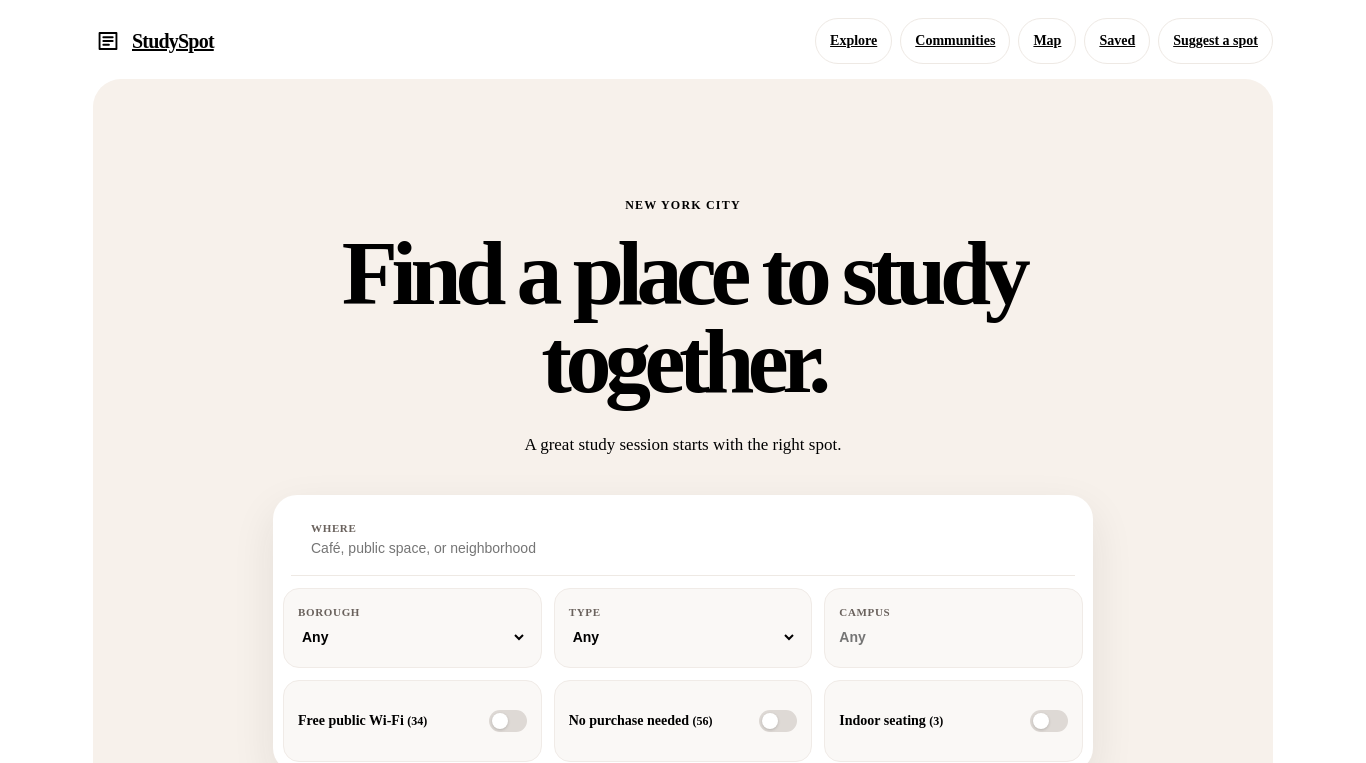
Scenario: the place card › names who runs the place
Type "library" into the field labelled "Where".
click(625, 548); type("library")  # box [311, 539, 939, 558]
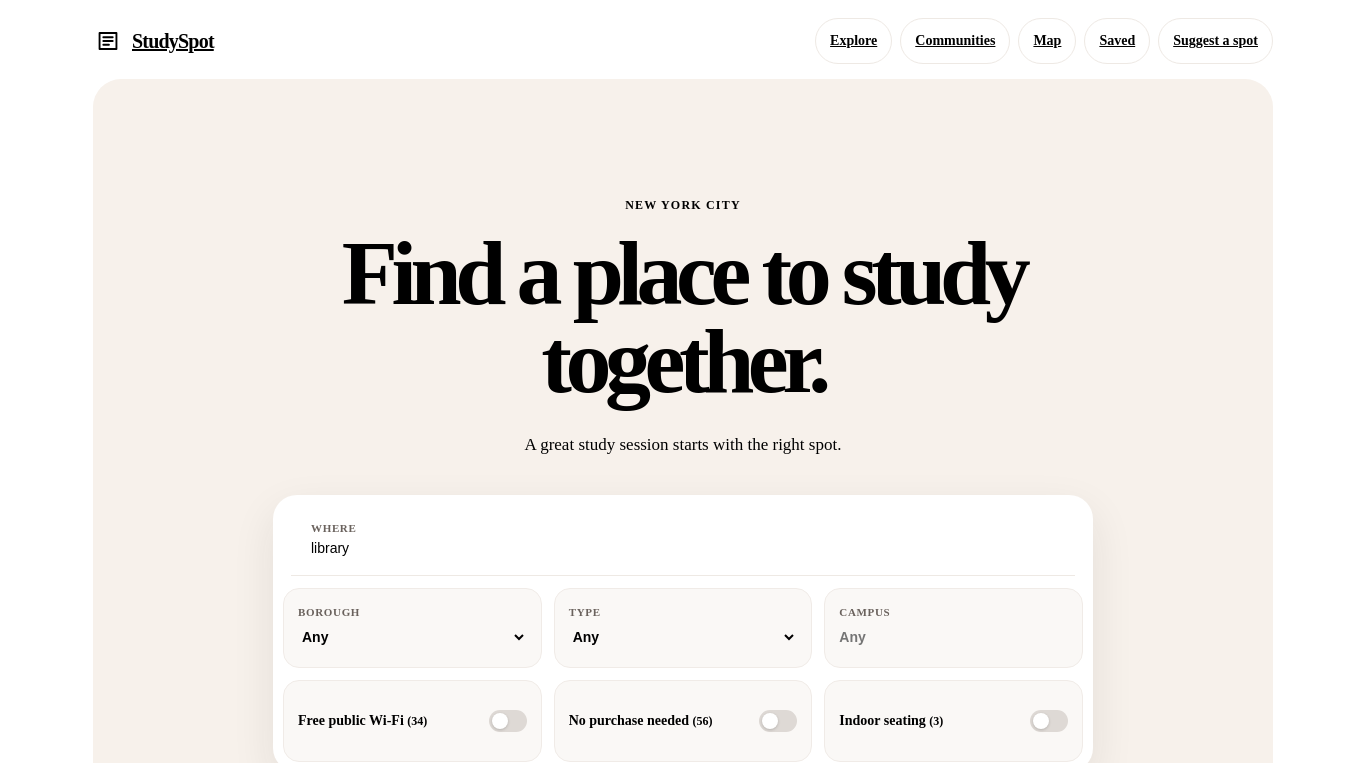
Click the button "Search".
click(1025, 540)  # box [959, 513, 1091, 567]
(page scrolled)
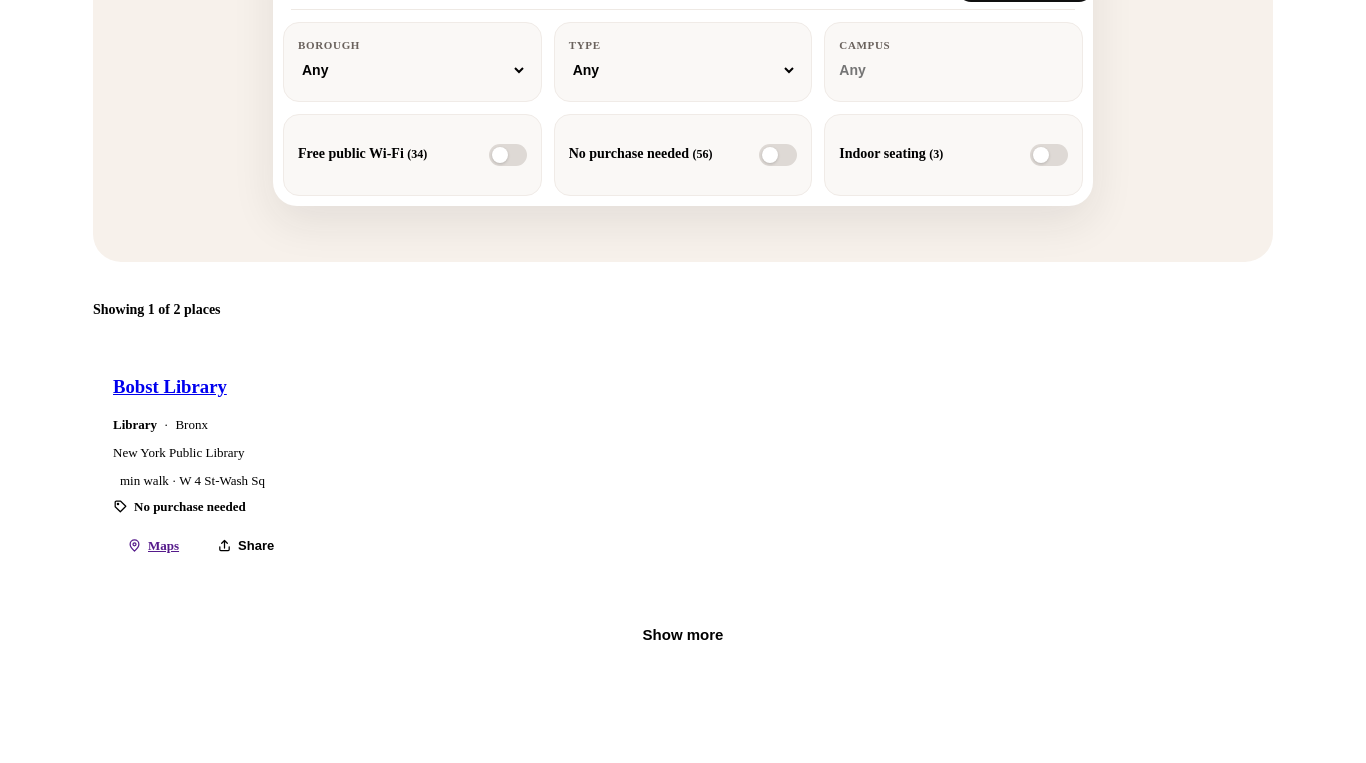
Now the text "New York Public Library" is shown, box [113, 445, 244, 460]
